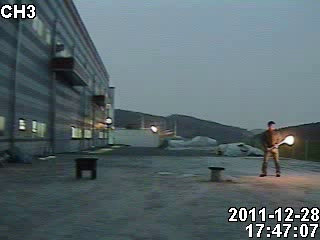fire: (281, 133, 298, 147)
